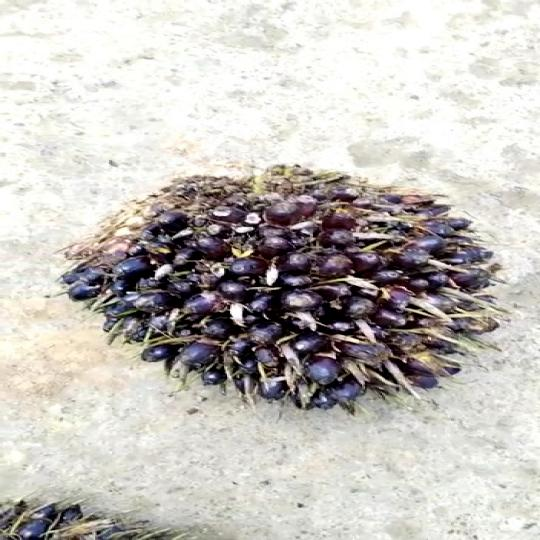mentah: (56, 156, 532, 430)
